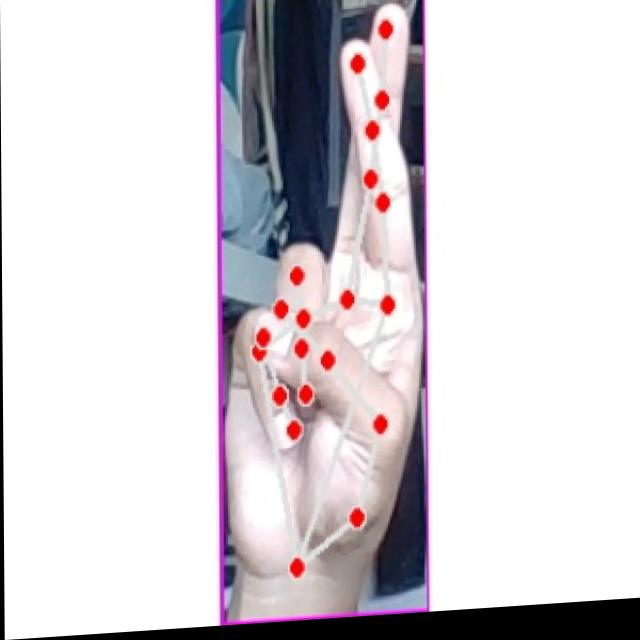R: (228, 0, 415, 604)
